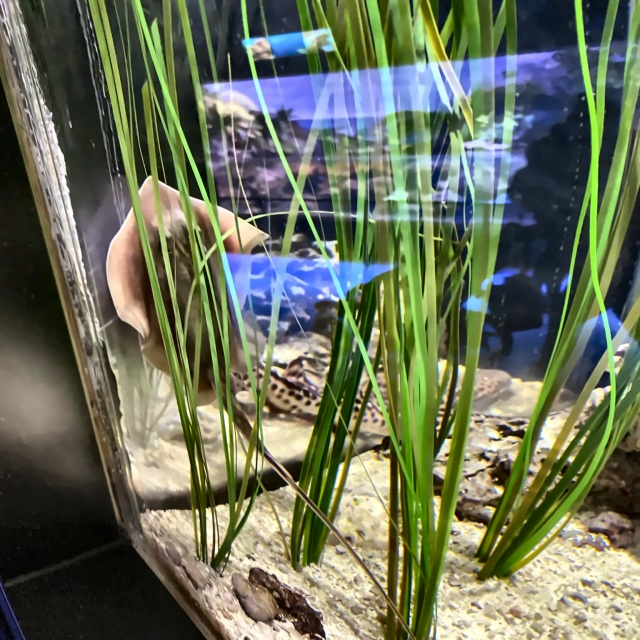stingray: (105, 176, 269, 407)
